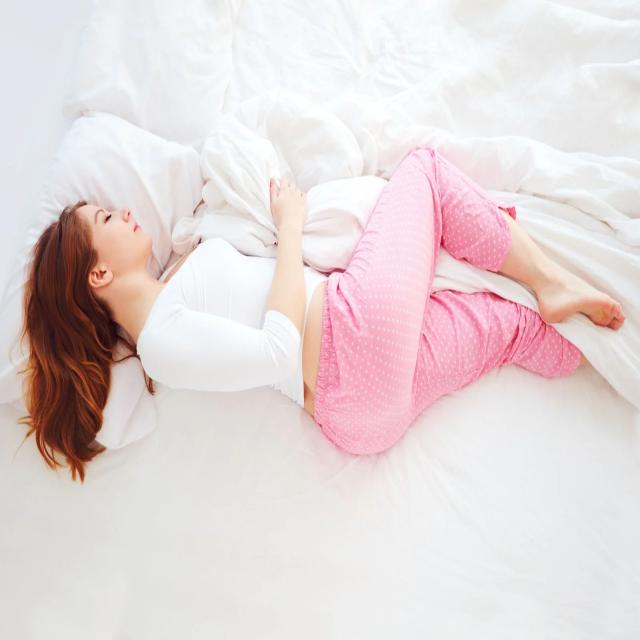sleeping-person: (13, 125, 629, 501)
